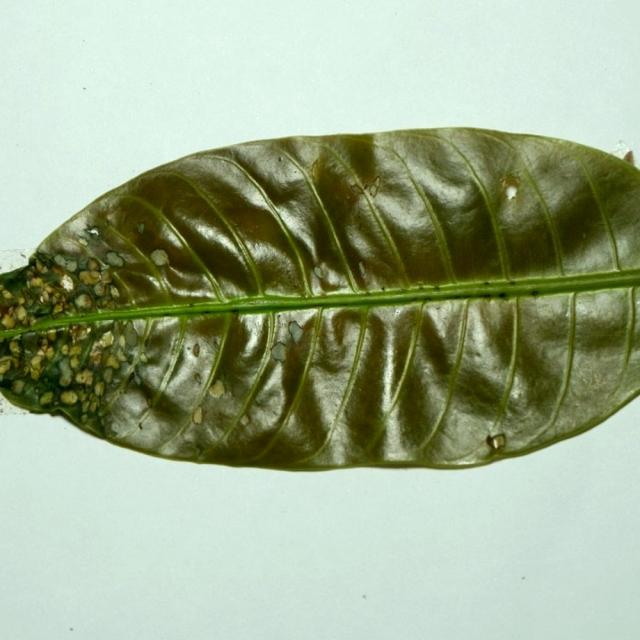Anthracnose: (176, 332, 251, 431), (95, 328, 152, 429), (7, 254, 78, 315), (312, 155, 385, 206), (36, 351, 96, 400), (405, 282, 537, 304), (209, 293, 319, 314), (77, 227, 128, 270), (271, 320, 304, 364), (312, 261, 340, 291), (49, 330, 71, 362), (4, 274, 28, 299), (20, 331, 40, 356), (55, 255, 79, 273), (80, 231, 101, 247), (36, 252, 55, 268), (0, 301, 12, 319), (0, 377, 14, 390), (229, 308, 240, 323), (417, 283, 426, 289), (202, 310, 212, 315), (188, 303, 195, 307)
Mango: (0, 127, 639, 474)
